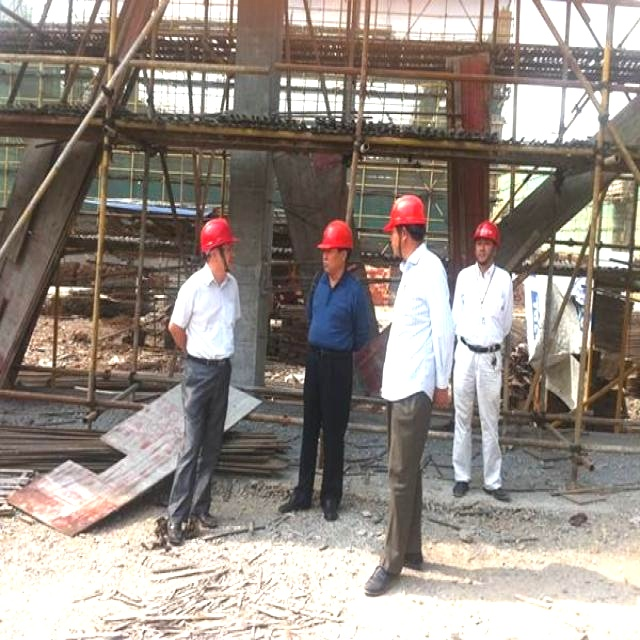Sin_Chaleco: (173, 267, 241, 359), (453, 263, 515, 350), (307, 269, 369, 351)
